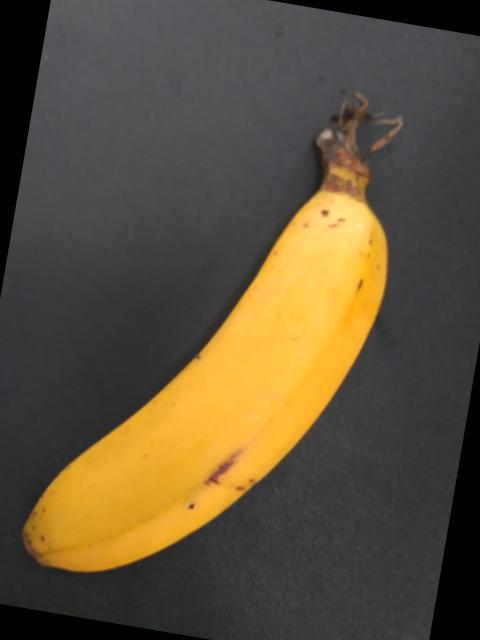freshripe: (19, 202, 403, 604)
